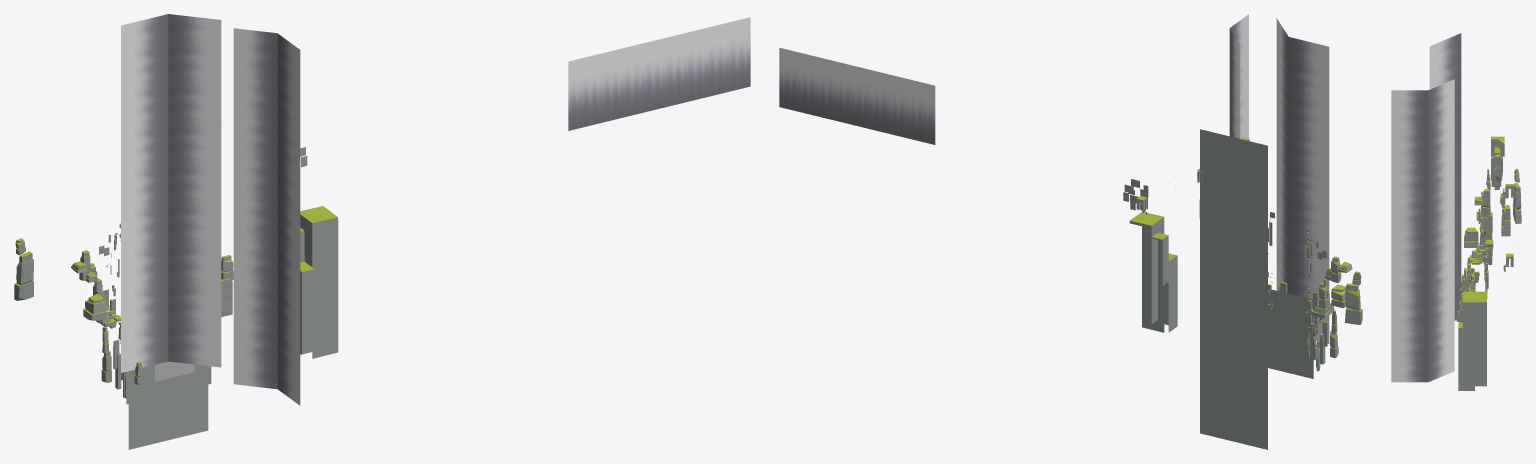
Rendered from WATERFALL_PCPORT.fbx.
3 views of the same model, side by side, from view 1: azimuth 30°, elevation 25°; view 2: azimuth 150°, elevation 25°; view 3: azimuth 270°, elevation 25° (orthographic). The views are drawn at different scales.
Parts seen in each view (by area): view 1: _CombinedDarkFrameChild_Crush_FadeMistDark_Mat, _CombinedBigStepsRightHandSideChild_Crush_NoAO, _CombinedLeftHandSideWallChild_Crush_MatDark_noAO, _CombinedLeftHandSideWallChild_Crush_NoAO, _CombinedWeightsRightChild_Crush_NoAO, _CombinedWheelRightChild_Crush_NoAO; view 2: _CombinedDarkFrameChild_Crush_FadeMistDark_Mat, _CombinedLeftHandSideWallChild_Crush_MatDark_noAO, _CombinedBigStepsRightHandSideChild_Crush_NoAO, _CombinedLeftHandSideWallChild_Crush_NoAO, _CombinedWeightsRightChild_Crush_NoAO, _CombinedWheelRightChild_Crush_NoAO, _CombinedBridgeRightChild_Crush_NoAO; view 3: _CombinedDarkFrameChild_Crush_FadeMistDark_Mat, _CombinedBigStepsRightHandSideChild_Crush_NoAO, _CombinedBridgeLeftChild_Crush_MatDark_noAO, _CombinedWheelRightChild_Crush_NoAO, _CombinedWeightsRightChild_Crush_NoAO, _CombinedWeightsLeftChild_Crush_MatDark_noAO, _CombinedBarrierLeftChild_Crush_MatDark_noAO, _CombinedForegroundBottomLeftChild_Crush_MatDark_noAO, _CombinedBridgeLeftChild_Crush_NoAO, _CombinedWheelLeftChild_Crush_NoAO.
Boxes of the visible parts, x1,y1,x2,y2 form: _CombinedDarkFrameChild_Crush_FadeMistDark_Mat: (121,14,750,405); _CombinedBigStepsRightHandSideChild_Crush_NoAO: (300,206,338,358); _CombinedLeftHandSideWallChild_Crush_MatDark_noAO: (128,384,208,449); _CombinedLeftHandSideWallChild_Crush_NoAO: (126,364,211,404); _CombinedWeightsRightChild_Crush_NoAO: (14,223,120,300); _CombinedWheelRightChild_Crush_NoAO: (83,293,120,382); _CombinedDarkFrameChild_Crush_FadeMistDark_Mat: (779,14,1329,343); _CombinedLeftHandSideWallChild_Crush_MatDark_noAO: (1199,129,1267,449); _CombinedBigStepsRightHandSideChild_Crush_NoAO: (1129,211,1177,332); _CombinedLeftHandSideWallChild_Crush_NoAO: (1268,289,1313,378); _CombinedWeightsRightChild_Crush_NoAO: (1305,230,1362,324); _CombinedWheelRightChild_Crush_NoAO: (1305,285,1345,357); _CombinedBridgeRightChild_Crush_NoAO: (1123,165,1176,214); _CombinedDarkFrameChild_Crush_FadeMistDark_Mat: (1391,33,1461,382); _CombinedBigStepsRightHandSideChild_Crush_NoAO: (1458,291,1486,390); _CombinedBridgeLeftChild_Crush_MatDark_noAO: (1491,136,1510,236); _CombinedWheelRightChild_Crush_NoAO: (1464,227,1484,291); _CombinedWeightsRightChild_Crush_NoAO: (1474,168,1521,233); _CombinedWeightsLeftChild_Crush_MatDark_noAO: (1479,169,1490,236); _CombinedBarrierLeftChild_Crush_MatDark_noAO: (1482,212,1493,280); _CombinedForegroundBottomLeftChild_Crush_MatDark_noAO: (1456,268,1467,322); _CombinedBridgeLeftChild_Crush_NoAO: (1485,181,1514,207); _CombinedWheelLeftChild_Crush_NoAO: (1470,237,1488,298).
Size of the model in its own units: 447 by 276 by 87.19.
Materials: 6 (5 with a texture image).
